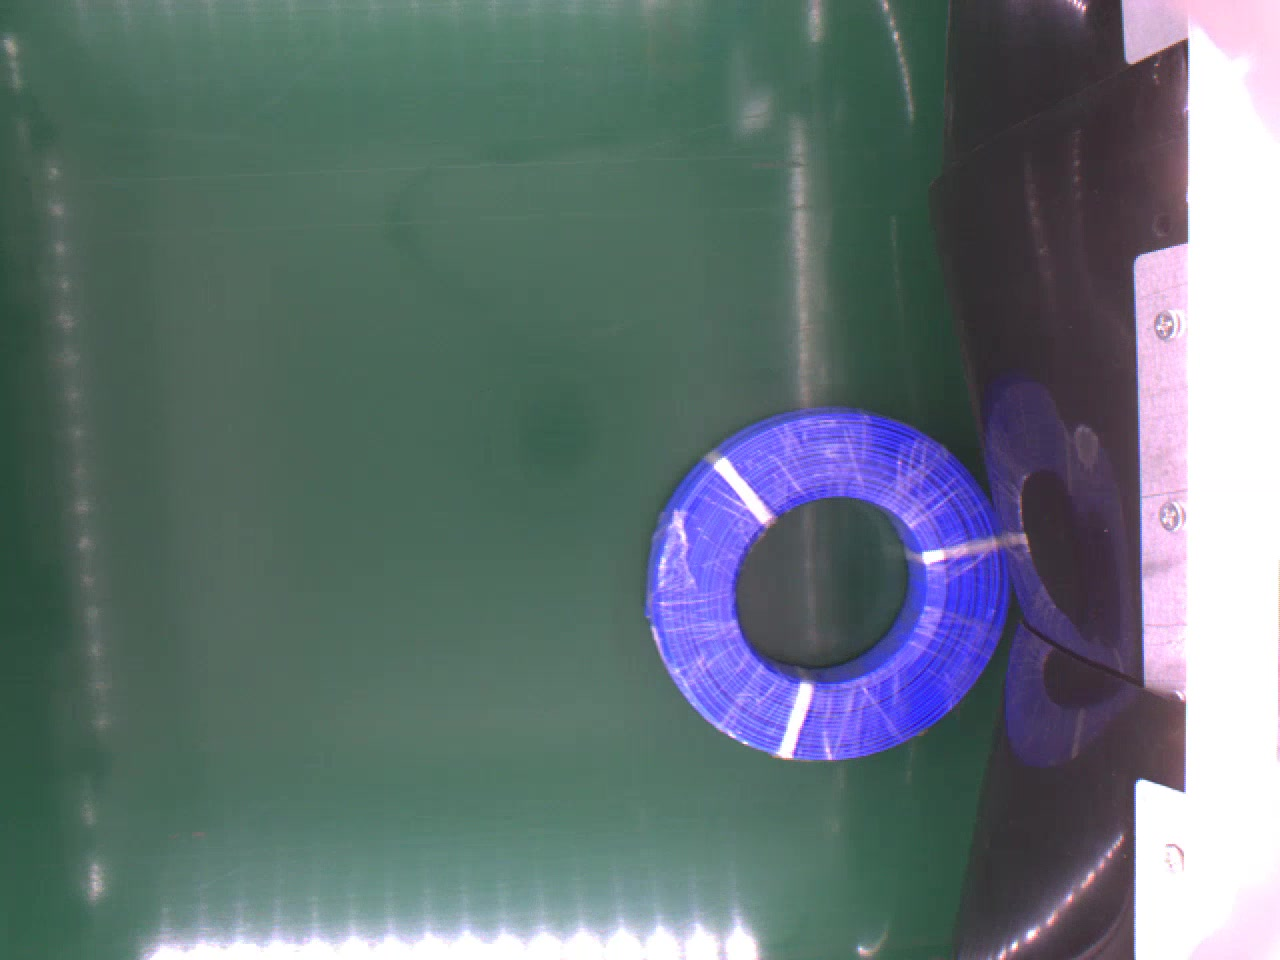blue: (647, 410, 1011, 768)
